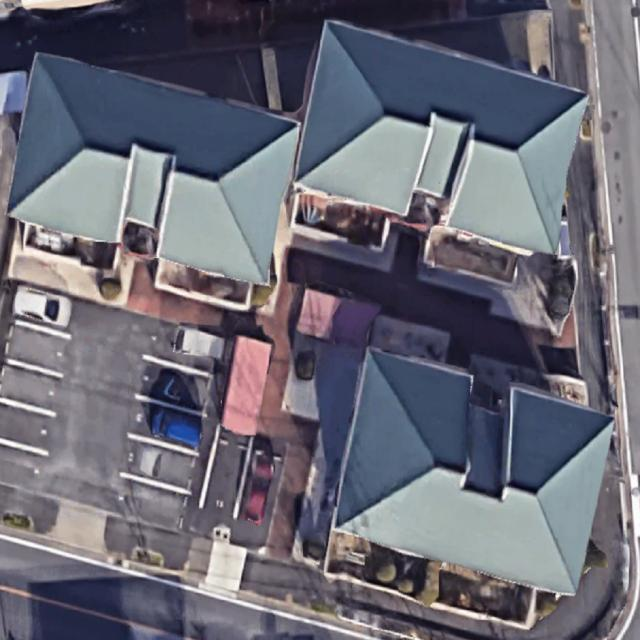Batiment: (296, 21, 588, 253), (9, 53, 299, 284)
